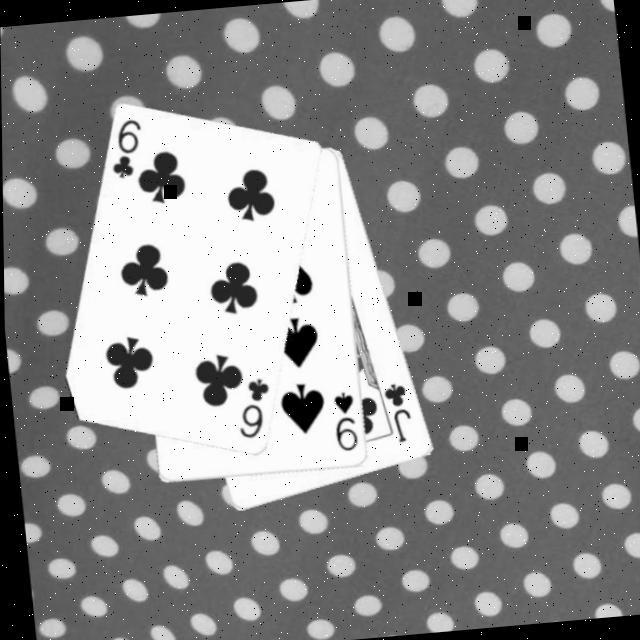6C: (231, 376, 278, 445), (106, 117, 150, 184)
9S: (329, 389, 364, 457)
JC: (381, 381, 418, 449)
